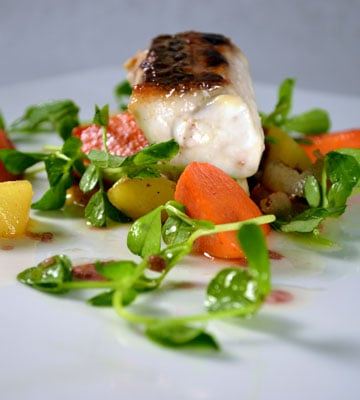pizza: (174, 161, 263, 226), (300, 130, 360, 162)
